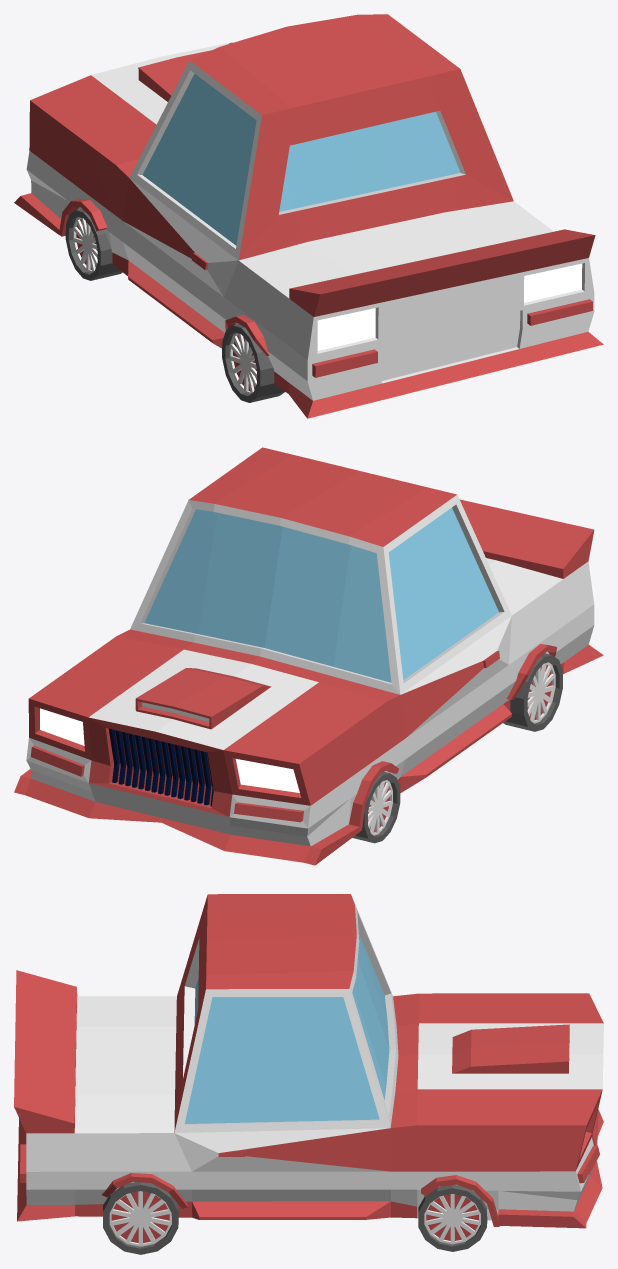
File: Low-Poly-Racing-Car.fbx
3 renders of one model, top to bottom at view 1: azimuth 30°, elevation 25°; view 2: azimuth 150°, elevation 25°; view 3: azimuth 270°, elevation 25°, orthographic. The views are drawn at different scales.
Visible parts, largest first — view 1: body, backlight, wheel_1, wheel1_1, front_fender, rear_fender; view 2: body, lattice_1, wheel_1, headlight, wheel1_1, front_fender, rear_fender; view 3: body, wheel_1, wheel1_1, front_fender, rear_fender.
Part boxes in pixels (x1,y1,x2,y2): body: [14, 14, 603, 418]; backlight: [317, 263, 582, 350]; wheel_1: [222, 324, 284, 402]; wheel1_1: [65, 208, 122, 280]; front_fender: [59, 199, 107, 236]; rear_fender: [225, 314, 269, 355]; body: [14, 447, 603, 865]; lattice_1: [109, 728, 213, 806]; wheel_1: [503, 653, 562, 731]; headlight: [40, 708, 299, 792]; wheel1_1: [352, 772, 400, 843]; front_fender: [349, 761, 398, 831]; rear_fender: [506, 644, 556, 699]; body: [14, 894, 603, 1228]; wheel_1: [103, 1182, 178, 1254]; wheel1_1: [418, 1185, 487, 1251]; front_fender: [421, 1175, 499, 1226]; rear_fender: [102, 1173, 187, 1208].
Bounding box in the file's own units: 139 × 111 × 237.
